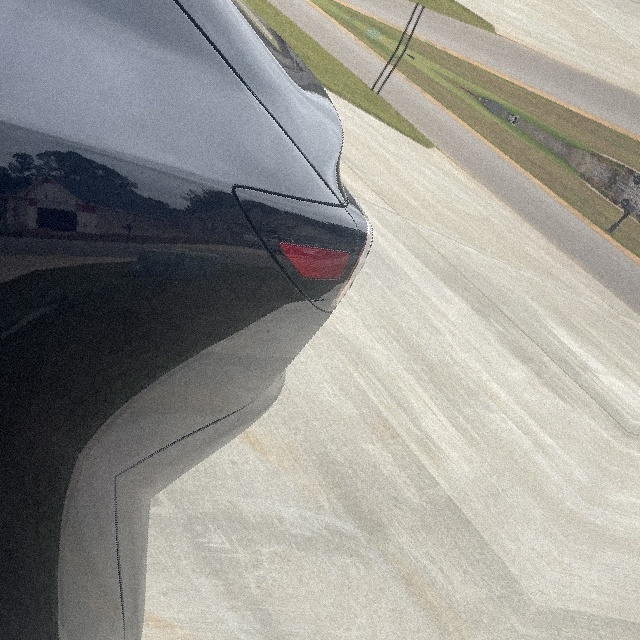reflector: (271, 217, 352, 294)
